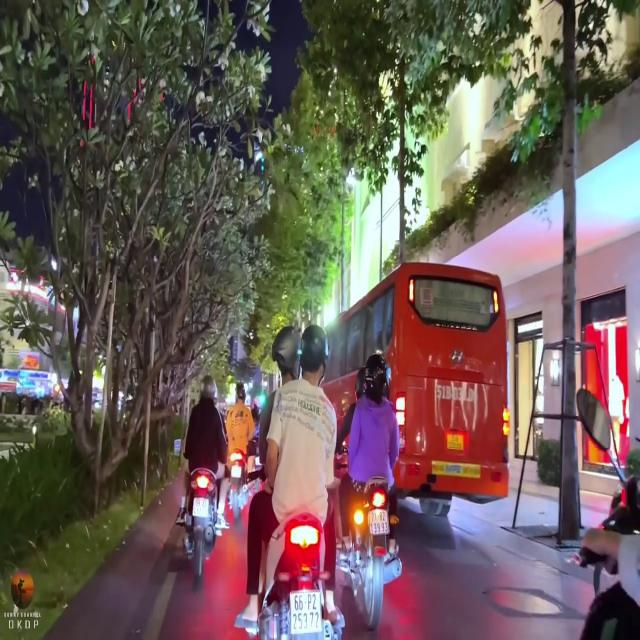bien_trang: (288, 588, 322, 632), (365, 504, 389, 536)
bien_vang: (445, 430, 466, 455)
